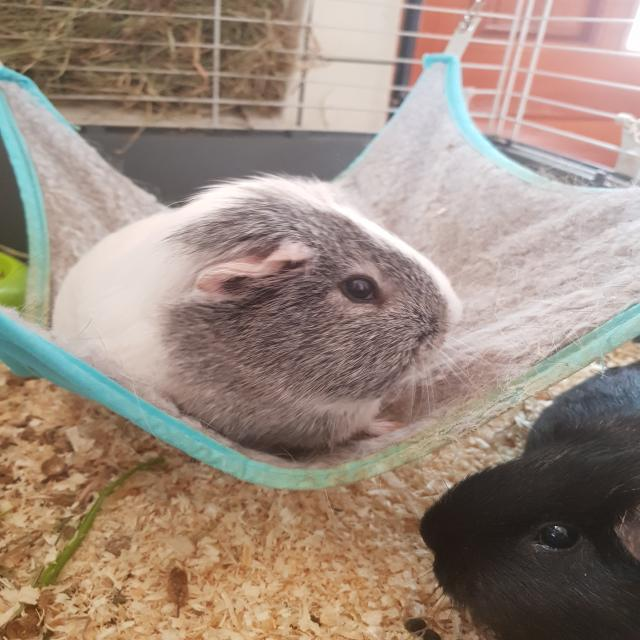guinea pig: (44, 172, 467, 458), (416, 354, 640, 640)
